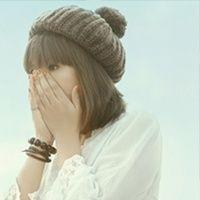face: (25, 50, 88, 131)
